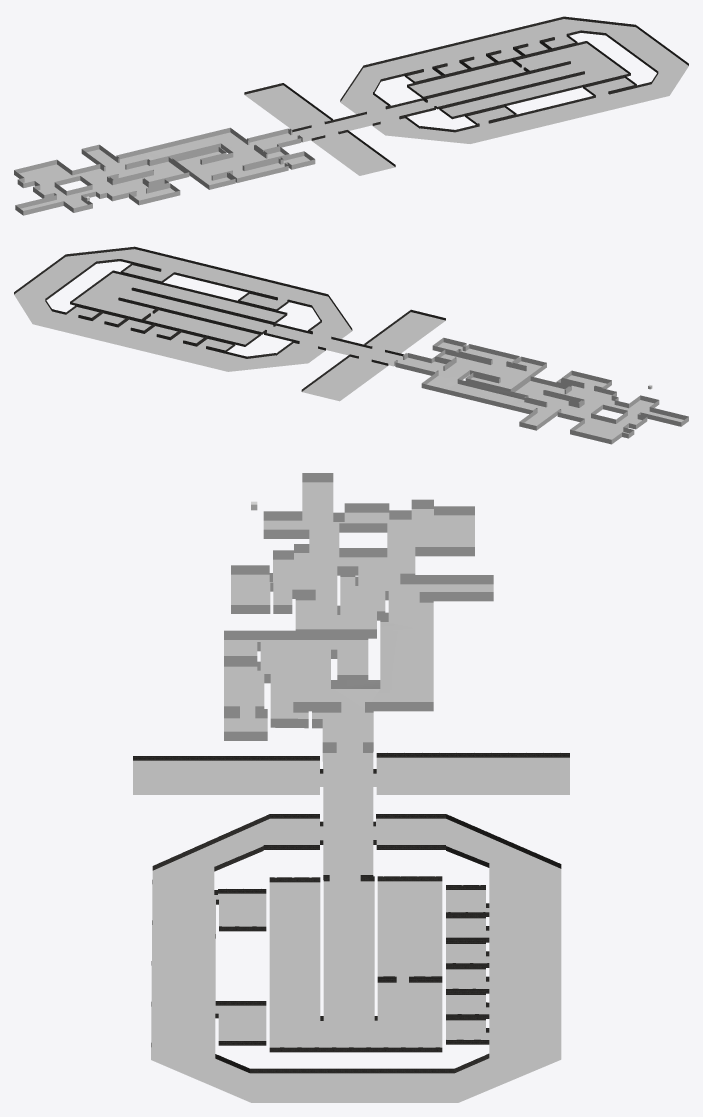
Rendered from Level.fbx.
The picture shows the model from 3 angles, top to bottom: view 1: azimuth 30°, elevation 25°; view 2: azimuth 150°, elevation 25°; view 3: azimuth 270°, elevation 25°; orthographic projection. The views are drawn at different scales.
Visible parts, largest first — view 1: Floor_2, Wall_1, Floor_1, Wall_2; view 2: Floor_2, Floor_1, Wall_1, Wall_2; view 3: Floor_2, Floor_1, Wall_1, Wall_2.
Boxes of the visible parts, x1,y1,x2,y2 form: Floor_2: (244, 19, 688, 175); Wall_1: (14, 127, 315, 215); Floor_1: (19, 132, 309, 210); Wall_2: (244, 16, 688, 166); Floor_2: (14, 249, 445, 401); Floor_1: (399, 342, 683, 439); Wall_1: (394, 337, 688, 444); Wall_2: (14, 246, 445, 391); Floor_2: (133, 753, 569, 1102); Floor_1: (224, 482, 493, 752); Wall_1: (224, 473, 493, 752); Wall_2: (133, 753, 569, 1073).
Size of the model in its own units: 455 by 136 by 9.82.
